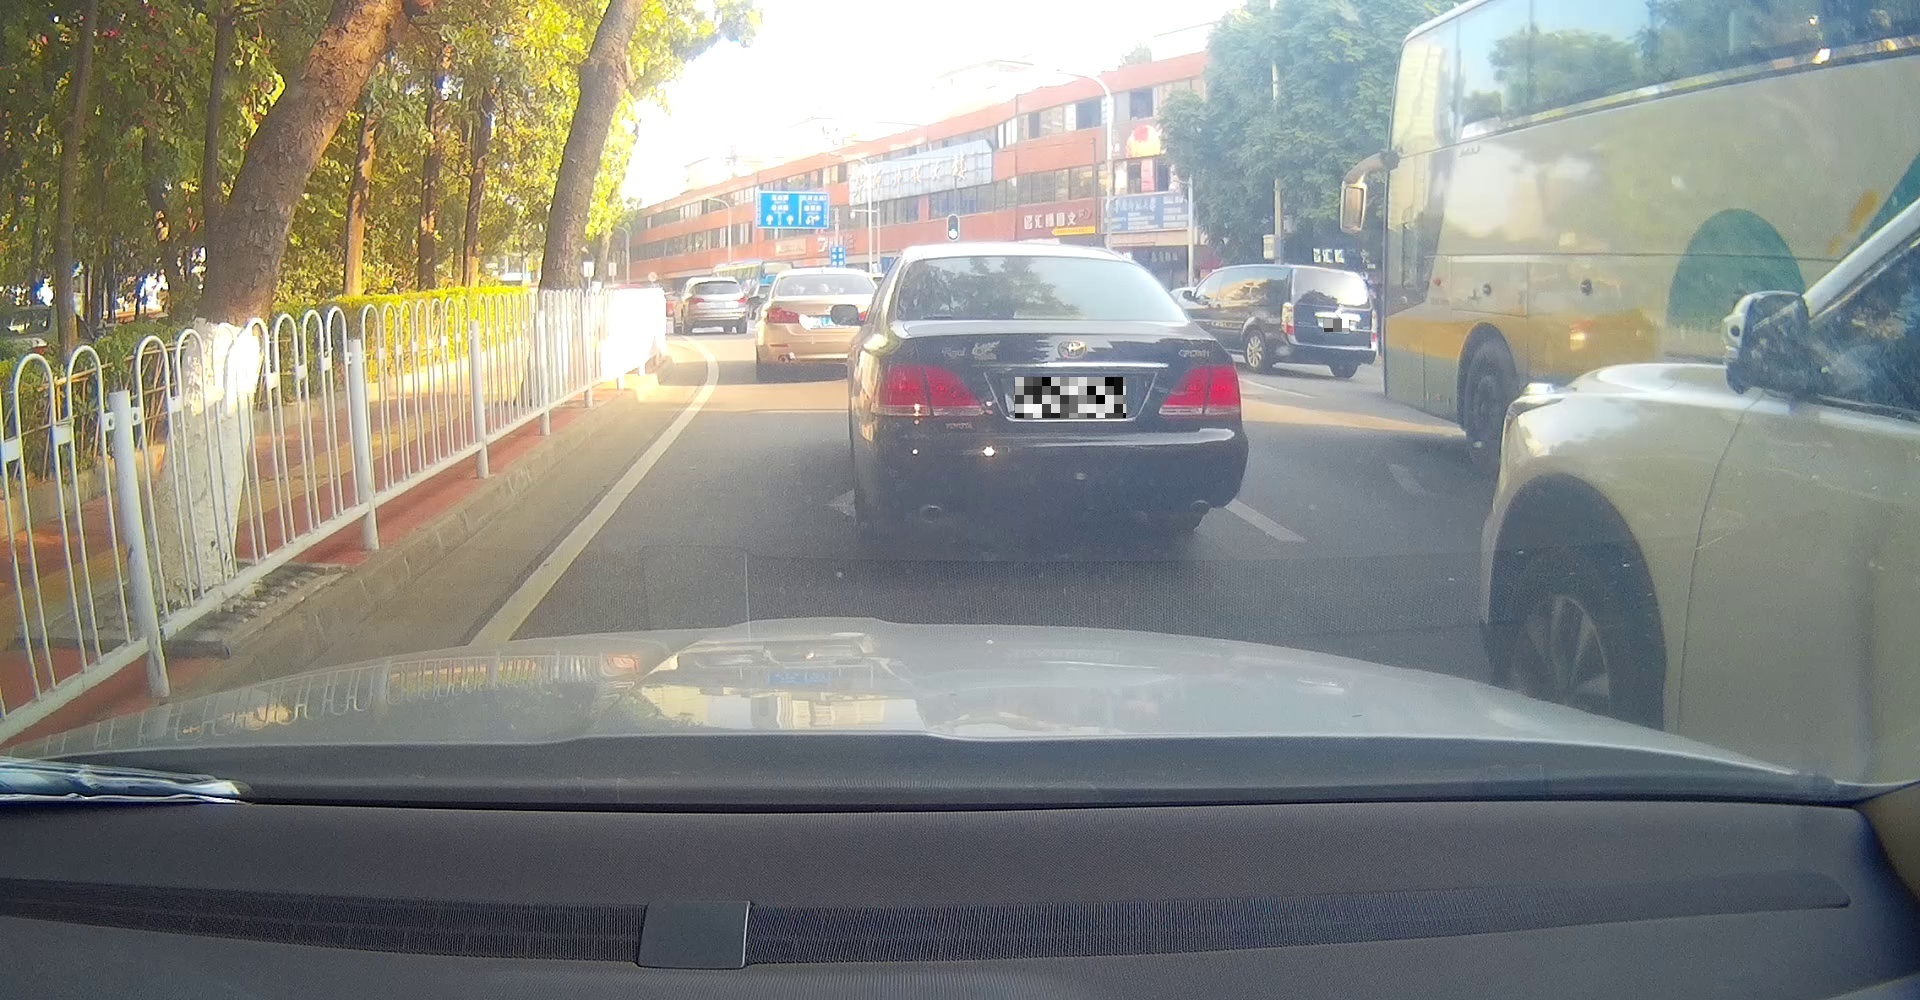L_light: (869, 360, 985, 418), (1281, 302, 1294, 335)
R_light: (1158, 362, 1241, 419), (1370, 308, 1378, 341)
T_light: (1012, 308, 1093, 320), (1324, 272, 1343, 275)
day-no: (866, 241, 1251, 538), (1280, 265, 1379, 378)
plate_1: (1015, 377, 1126, 418)
plate_2: (1324, 319, 1349, 332)
